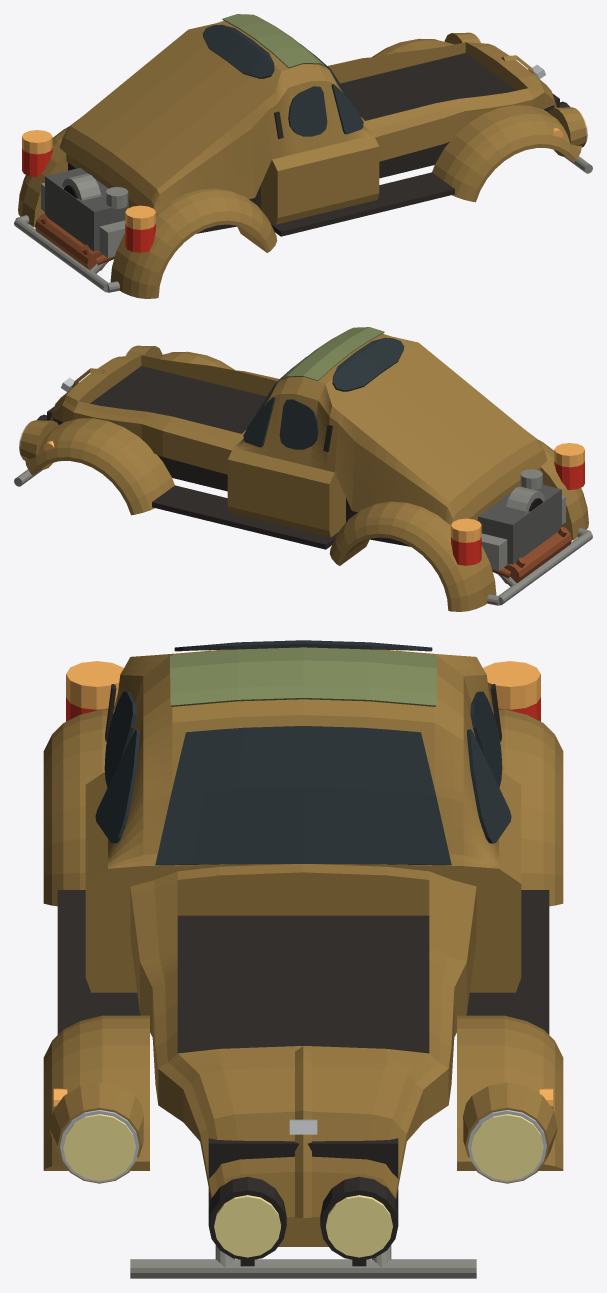
Rendered from base_courier.glb.
3 renders of one model, top to bottom at view 1: azimuth 30°, elevation 25°; view 2: azimuth 150°, elevation 25°; view 3: azimuth 270°, elevation 25°, orthographic. The views are drawn at different scales.
Visible parts, largest first — view 1: base_courier; view 2: base_courier; view 3: base_courier.
Part boxes in pixels (x1,y1,x2,y2): base_courier: (14,14,592,298); base_courier: (14,327,592,611); base_courier: (43,640,563,1278).
Bounding box in the file's own units: 4.1 × 1.38 × 1.86.
